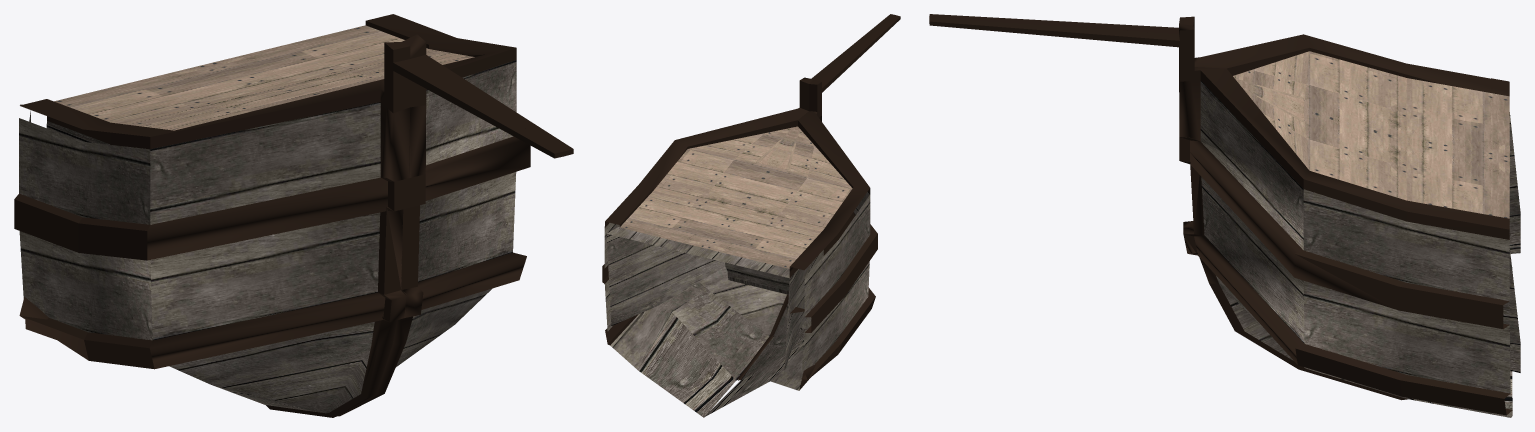
Rendered from Windward-Shipwreck1-Centered.glb.
The picture shows the model from 3 angles, left to right: view 1: azimuth 30°, elevation 25°; view 2: azimuth 150°, elevation 25°; view 3: azimuth 270°, elevation 25°; orthographic projection. The views are drawn at different scales.
Visible parts, largest first — view 1: Plane.001; view 2: Plane.001; view 3: Plane.001.
Part boxes in pixels (box(x1,y1,x2,y2)): Plane.001: box(14, 14, 573, 417); Plane.001: box(602, 14, 900, 417); Plane.001: box(929, 14, 1520, 417).
Bounding box in the file's own units: 3.16 × 3.79 × 5.1.
3 materials, 2 textured.
